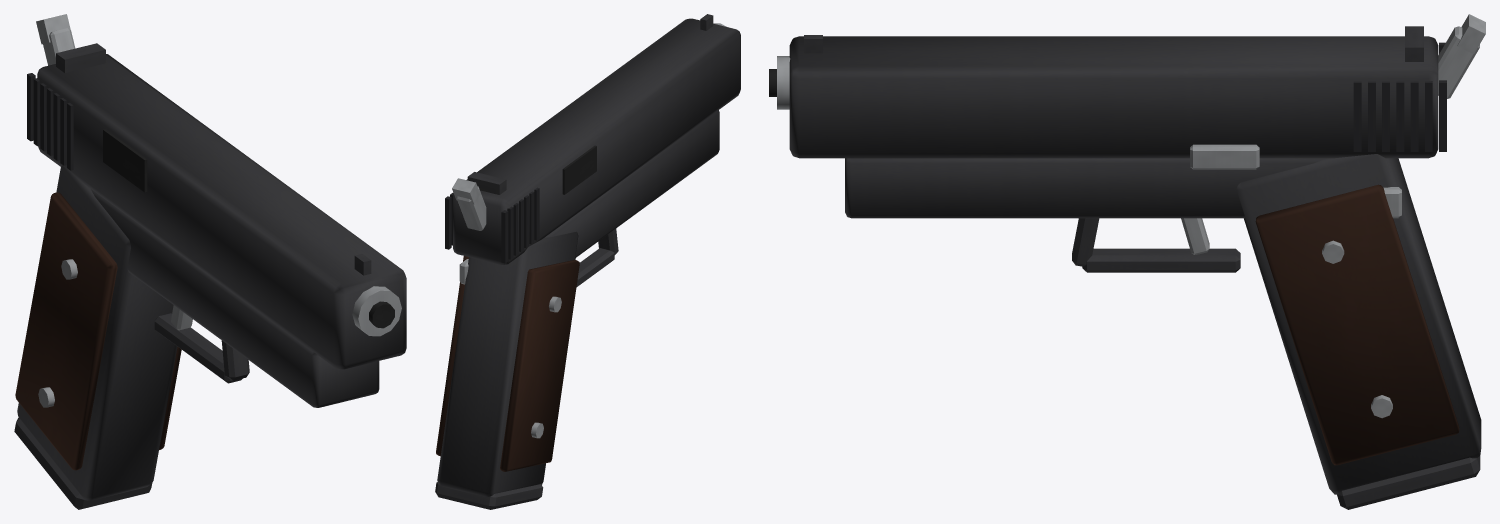
The model's file is OB_Pistolet_Vis.fbx.
The picture shows the model from 3 angles, left to right: view 1: azimuth 30°, elevation 25°; view 2: azimuth 150°, elevation 25°; view 3: azimuth 270°, elevation 25°; orthographic projection. The views are drawn at different scales.
Parts seen in each view (by area): view 1: Vis, Zamek, Magazynek, Kurek; view 2: Vis, Zamek, Magazynek, Kurek; view 3: Vis, Zamek, Magazynek, Kurek.
Part boxes in pixels (<box>): Vis: <box>15,165,379,500</box>; Zamek: <box>27,43,406,369</box>; Magazynek: <box>14,418,152,509</box>; Kurek: <box>36,14,75,65</box>; Vis: <box>436,110,719,497</box>; Zamek: <box>445,14,740,264</box>; Magazynek: <box>435,482,543,509</box>; Kurek: <box>452,178,486,230</box>; Vis: <box>845,144,1481,494</box>; Zamek: <box>769,26,1446,158</box>; Magazynek: <box>1337,456,1480,509</box>; Kurek: <box>1438,14,1485,98</box>.
Size of the model in its own units: 0.041 by 0.1648 by 0.2265.
